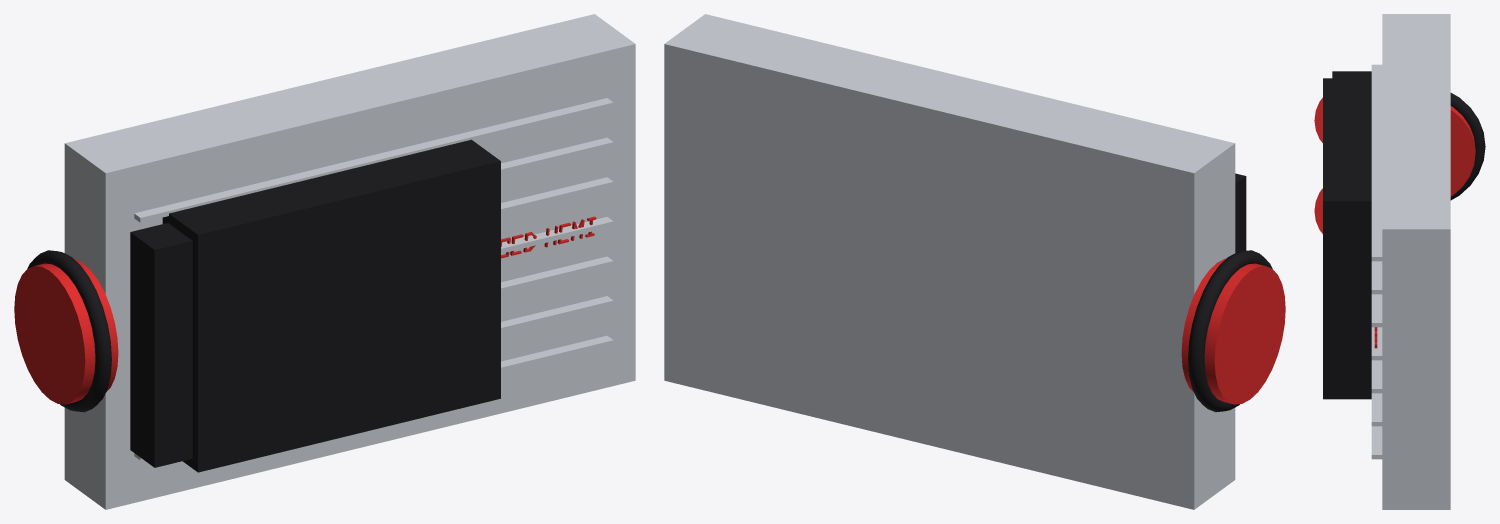
File: engine_cover_supercharged_v8_shaker.glb
3 views of the same model, side by side, from view 1: azimuth 30°, elevation 25°; view 2: azimuth 150°, elevation 25°; view 3: azimuth 270°, elevation 25° (orthographic). The views are drawn at different scales.
Visible parts, largest first — view 1: Model11_Supercharged_V8_Shaker_Cover; view 2: Model11_Supercharged_V8_Shaker_Cover; view 3: Model11_Supercharged_V8_Shaker_Cover.
Boxes of the visible parts, x1=… form: Model11_Supercharged_V8_Shaker_Cover: x1=14, y1=14, x2=635, y2=509; Model11_Supercharged_V8_Shaker_Cover: x1=664, y1=14, x2=1285, y2=509; Model11_Supercharged_V8_Shaker_Cover: x1=1314, y1=14, x2=1485, y2=509.
Size of the model in its own units: 0.5975 by 0.34 by 0.188.
